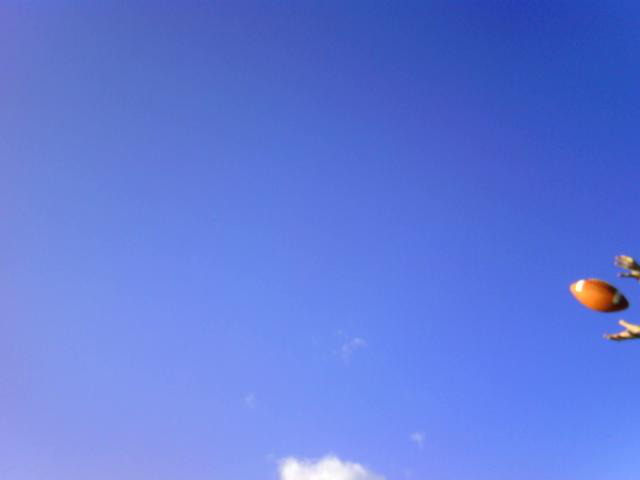football: (566, 277, 632, 320)
